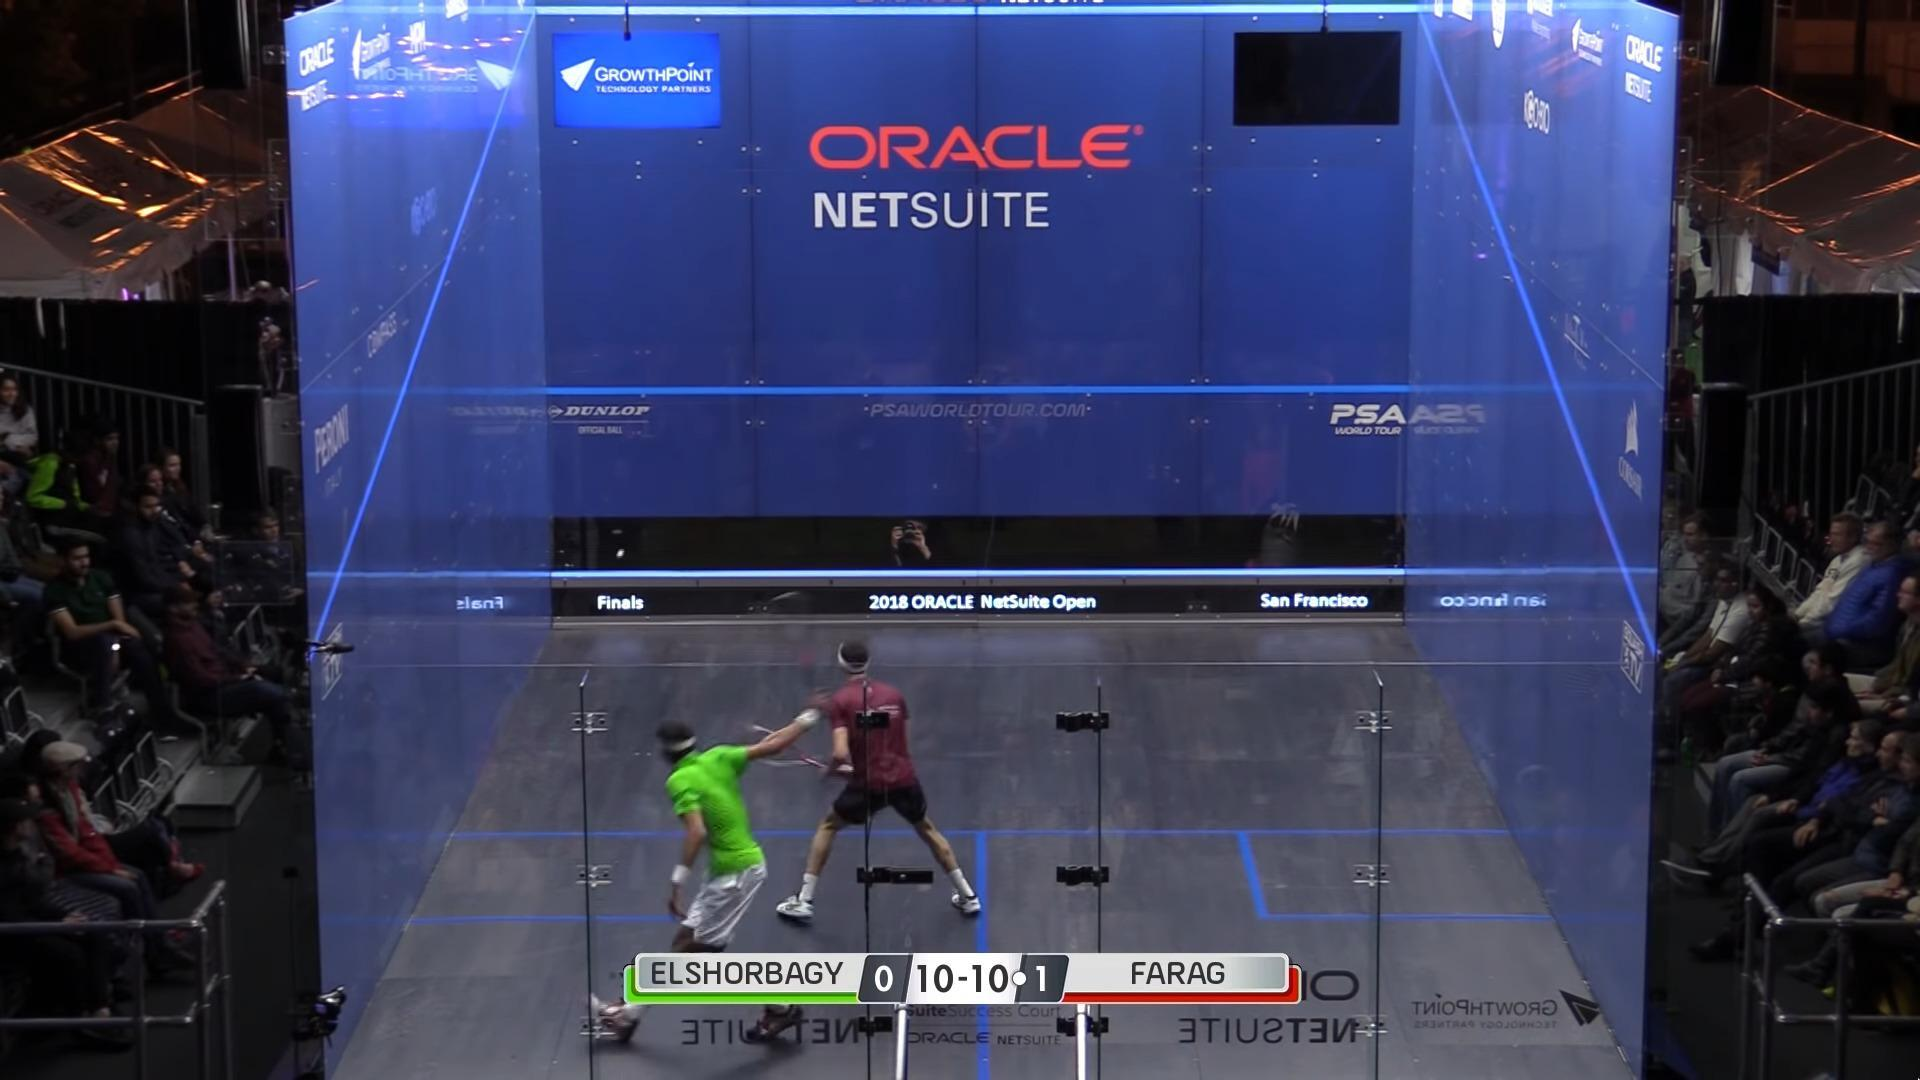Squash-Ball: (607, 543, 634, 564)
